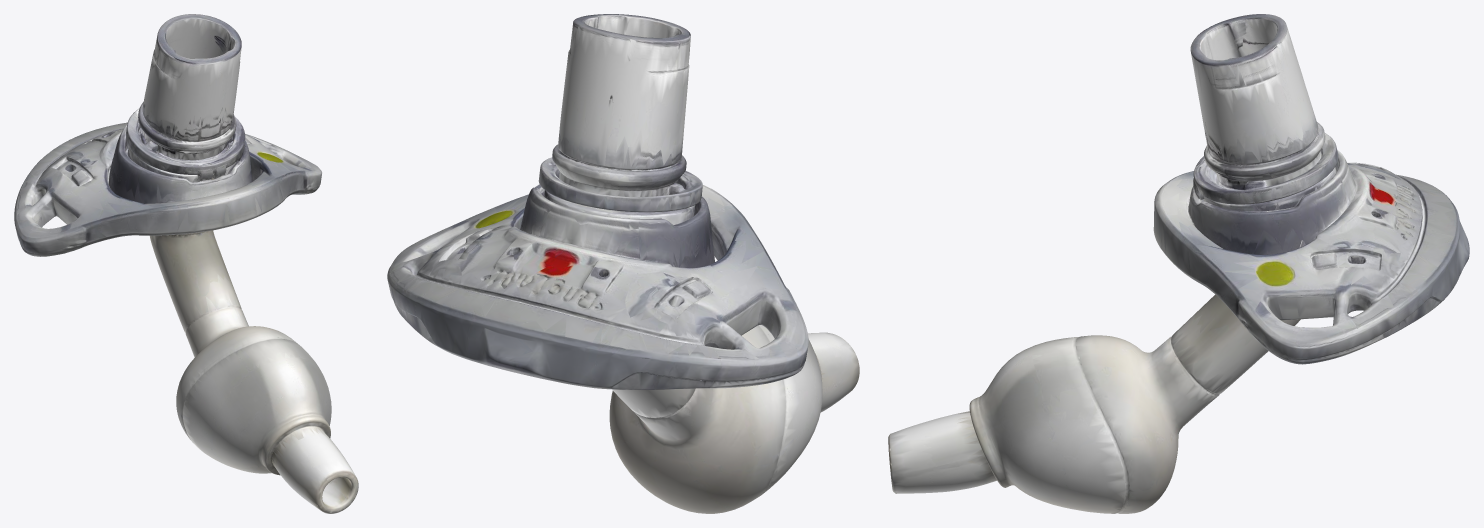
The model's file is cuffed-tube.glb.
The picture shows the model from 3 angles, left to right: view 1: azimuth 30°, elevation 25°; view 2: azimuth 150°, elevation 25°; view 3: azimuth 270°, elevation 25°; orthographic projection. The views are drawn at different scales.
Parts seen in each view (by area): view 1: cuffed-tube-01; view 2: cuffed-tube-01; view 3: cuffed-tube-01.
Part boxes in pixels (x1,y1,x2,y2): cuffed-tube-01: (14, 14, 358, 513); cuffed-tube-01: (387, 14, 859, 513); cuffed-tube-01: (888, 14, 1469, 513).
Size of the model in its own units: 1.43 by 1.83 by 2.
1 material, 1 textured.
